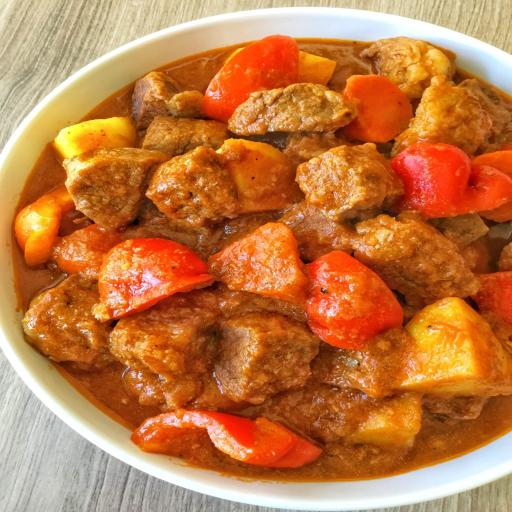pork caldereta: (19, 32, 510, 492)
